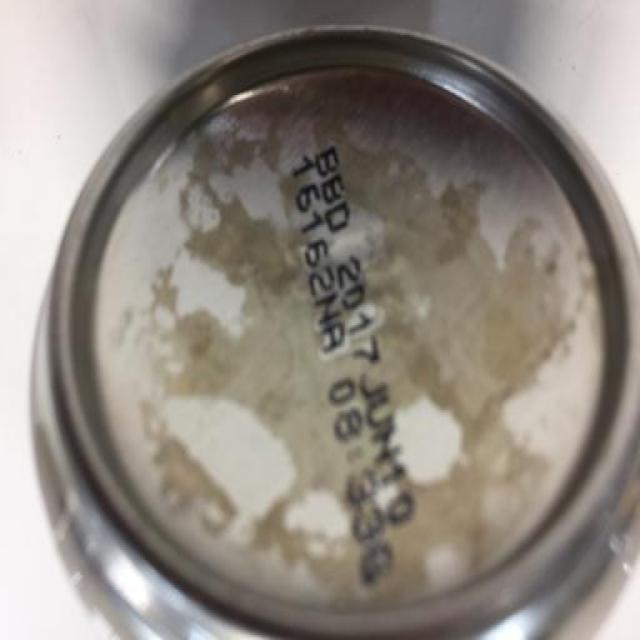Metal: (26, 18, 640, 640)
